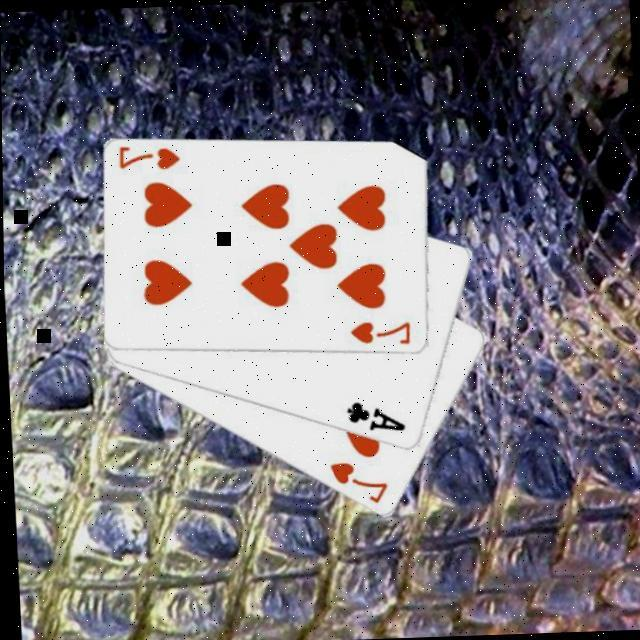7H: (322, 458, 388, 510), (112, 142, 180, 175), (344, 318, 411, 350)
AC: (340, 398, 406, 438)
